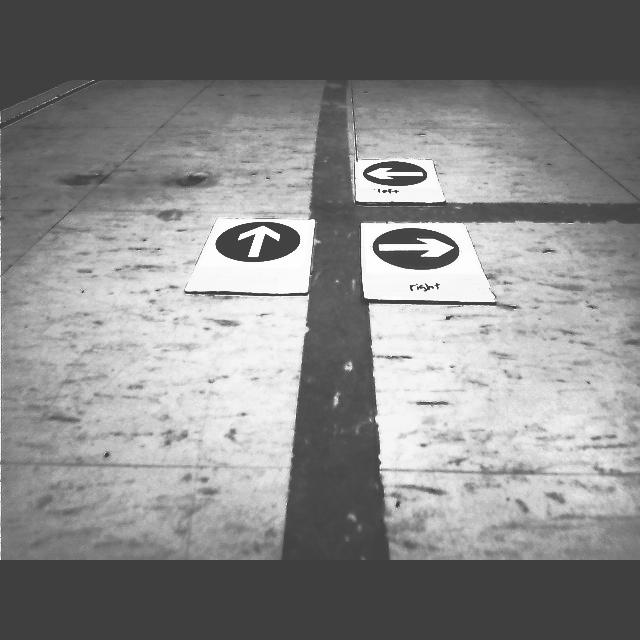GO FORWARD: (216, 222, 300, 261)
TURN LEFT: (364, 161, 427, 184)
TURN RIGHT: (371, 227, 462, 269)
